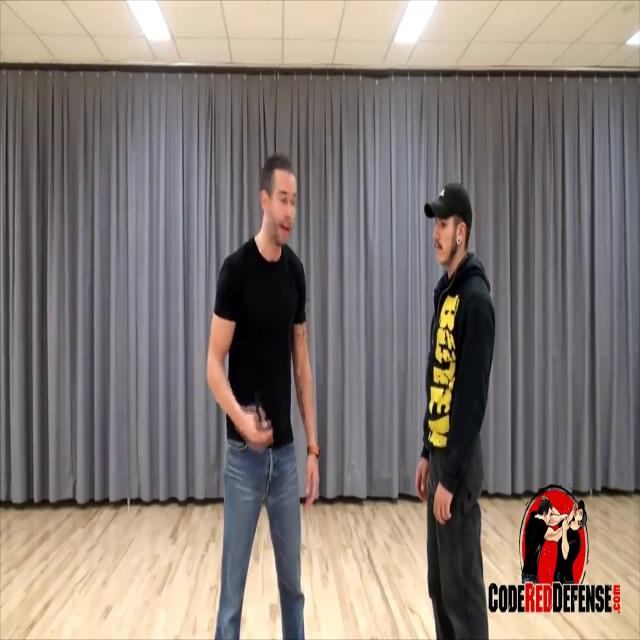Knife_Handle: (240, 391, 274, 450)
